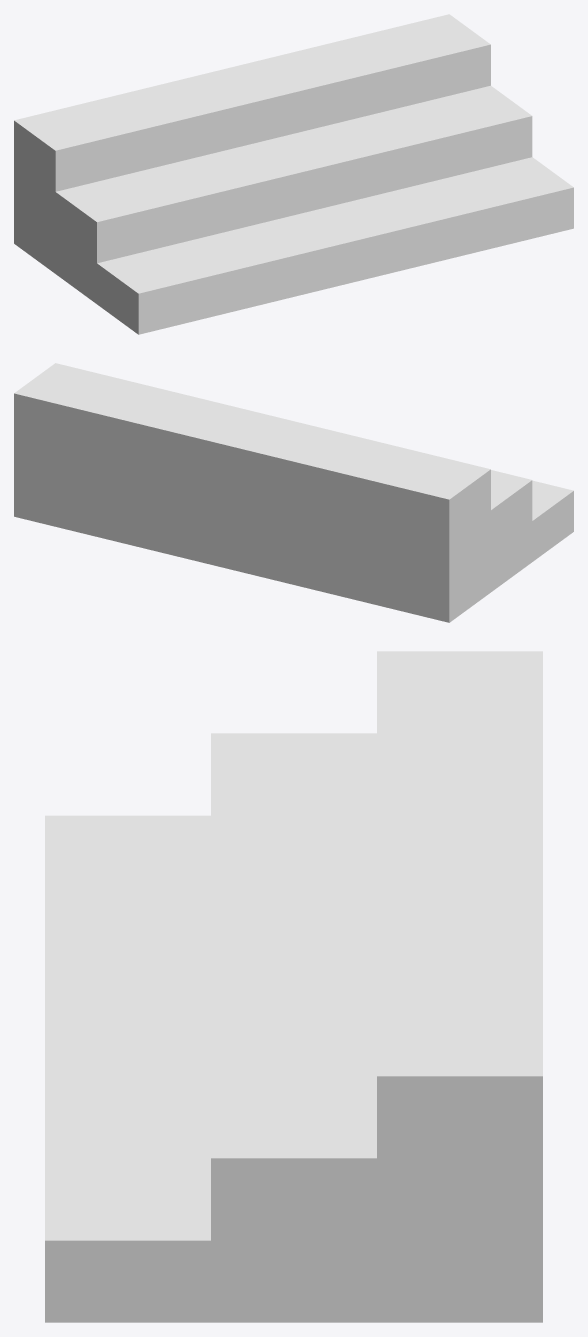
File: ladder_018.fbx
The picture shows the model from 3 angles, top to bottom: view 1: azimuth 30°, elevation 25°; view 2: azimuth 150°, elevation 25°; view 3: azimuth 270°, elevation 25°; orthographic projection. The views are drawn at different scales.
Visible parts, largest first — view 1: ladder_018; view 2: ladder_018; view 3: ladder_018.
Boxes of the visible parts, x1=… form: ladder_018: x1=14, y1=14, x2=573, y2=334; ladder_018: x1=14, y1=363, x2=573, y2=622; ladder_018: x1=45, y1=651, x2=542, y2=1322.
Size of the model in its own units: 146 by 72.31 by 39.47.
